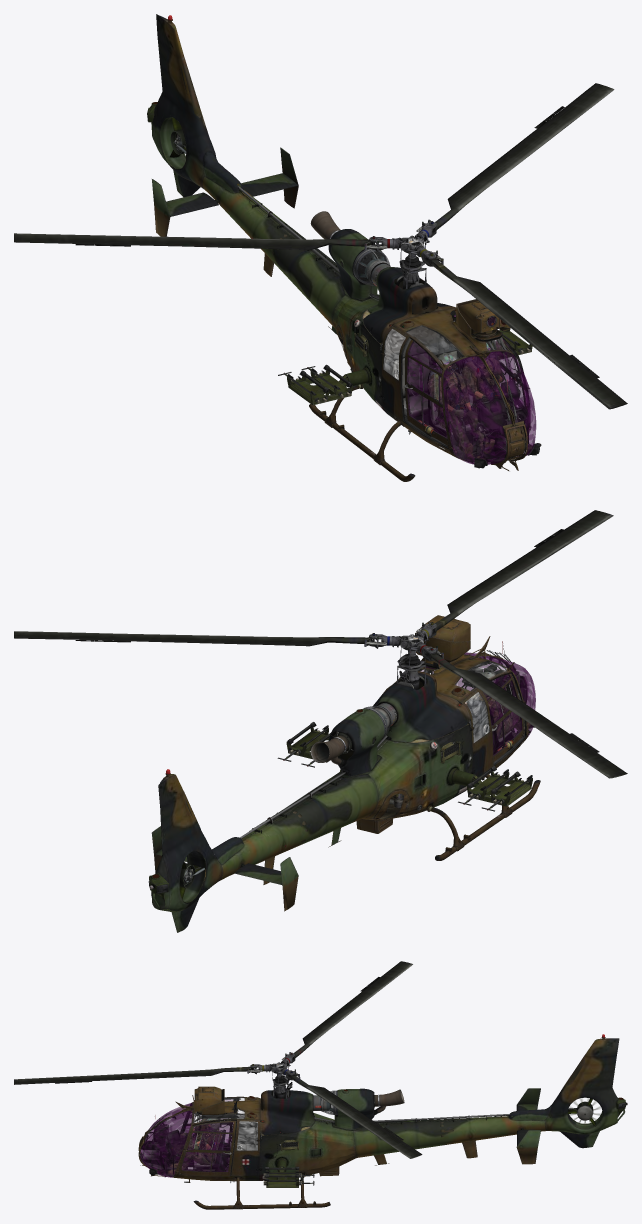
The model's file is gazelle.glb.
The picture shows the model from 3 angles, top to bottom: view 1: azimuth 30°, elevation 25°; view 2: azimuth 150°, elevation 25°; view 3: azimuth 270°, elevation 25°; orthographic projection. The views are drawn at different scales.
Visible parts, largest first — view 1: Object_176, Object_78, Object_112, Object_52, Object_42, Object_118, Object_48, Object_86, Object_190, Object_196, Object_174, Object_146 (+10 smaller); view 2: Object_176, Object_78, Object_52, Object_48, Object_42, Object_196, Object_118, Object_112, Object_190, Object_136, Object_166, Object_92 (+4 smaller); view 3: Object_176, Object_78, Object_112, Object_48, Object_52, Object_42, Object_118, Object_190, Object_86, Object_198, Object_162, Object_88 (+5 smaller).
Boxes of the visible parts, left/top/right/bottom form: Object_176: left=152, top=14, right=344, bottom=334; Object_78: left=14, top=83, right=627, bottom=409; Object_112: left=407, top=317, right=536, bottom=464; Object_52: left=310, top=211, right=456, bottom=349; Object_42: left=309, top=309, right=541, bottom=481; Object_118: left=152, top=117, right=379, bottom=298; Object_48: left=332, top=277, right=384, bottom=411; Object_86: left=427, top=358, right=525, bottom=458; Object_190: left=383, top=308, right=525, bottom=465; Object_196: left=278, top=329, right=532, bottom=405; Object_174: left=391, top=352, right=525, bottom=456; Object_146: left=384, top=320, right=464, bottom=453; Object_176: left=152, top=771, right=378, bottom=932; Object_78: left=14, top=510, right=627, bottom=778; Object_52: left=310, top=671, right=471, bottom=775; Object_48: left=340, top=723, right=472, bottom=833; Object_42: left=389, top=671, right=540, bottom=860; Object_196: left=277, top=722, right=532, bottom=811; Object_118: left=151, top=735, right=387, bottom=911; Object_112: left=421, top=652, right=535, bottom=755; Object_190: left=393, top=656, right=528, bottom=779; Object_136: left=415, top=632, right=471, bottom=673; Object_166: left=365, top=622, right=436, bottom=649; Object_92: left=468, top=698, right=513, bottom=750; Object_176: left=353, top=1037, right=625, bottom=1165; Object_78: left=14, top=961, right=422, bottom=1158; Object_112: left=140, top=1099, right=233, bottom=1177; Object_48: left=259, top=1113, right=363, bottom=1180; Object_52: left=260, top=1088, right=404, bottom=1138; Object_42: left=178, top=1096, right=330, bottom=1209; Object_118: left=314, top=1088, right=596, bottom=1164; Object_190: left=139, top=1096, right=626, bottom=1181; Object_86: left=168, top=1119, right=220, bottom=1174; Object_198: left=263, top=1158, right=299, bottom=1187; Object_162: left=237, top=1098, right=257, bottom=1150; Object_88: left=193, top=1086, right=221, bottom=1111.
Size of what is drawn, in the model's own units: 12.95 by 4.73 by 17.02.
90 materials, 85 textured.
